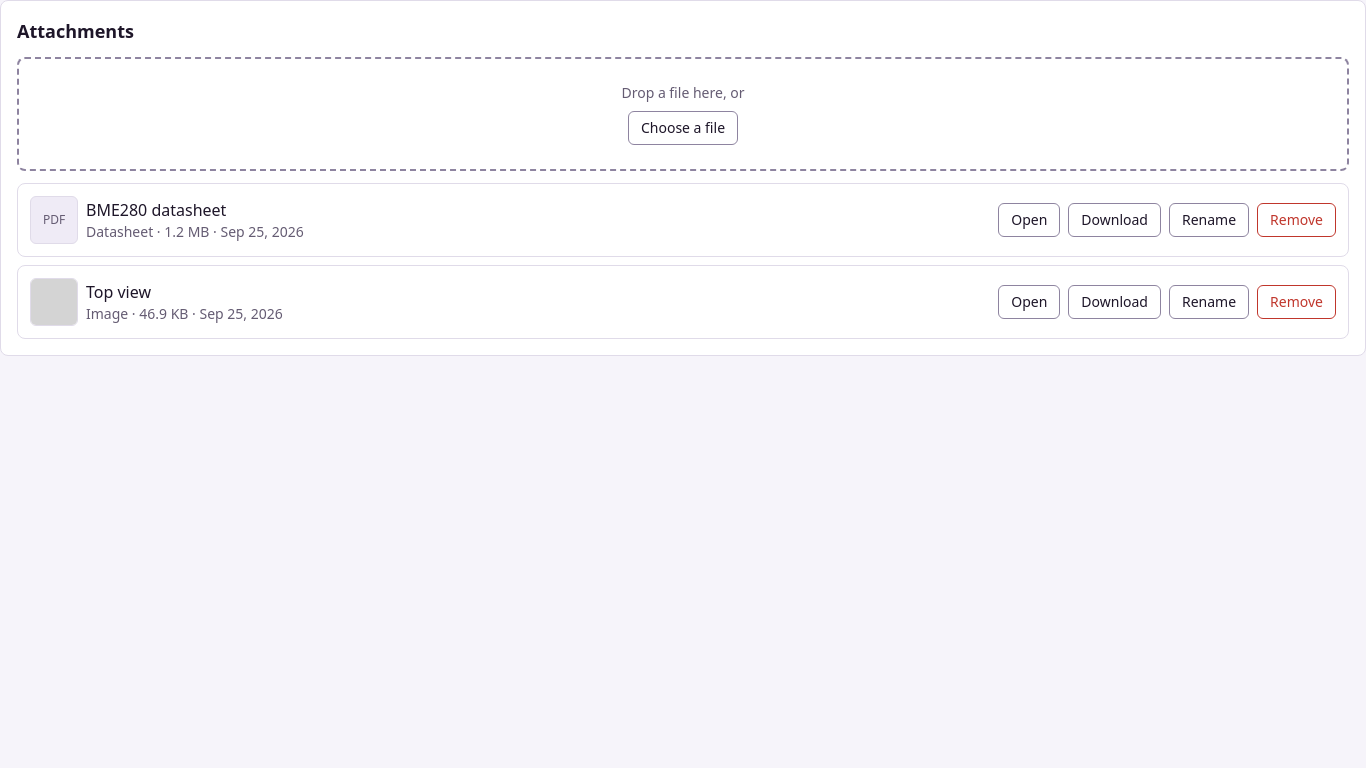
AttachmentsSection › says so when a change is refused, keeping the form open
Click the button "Rename " in the row of "Datasheet · 1.2 MB · Sep 25, 2026" at (1209, 220), box [1169,203,1249,237]
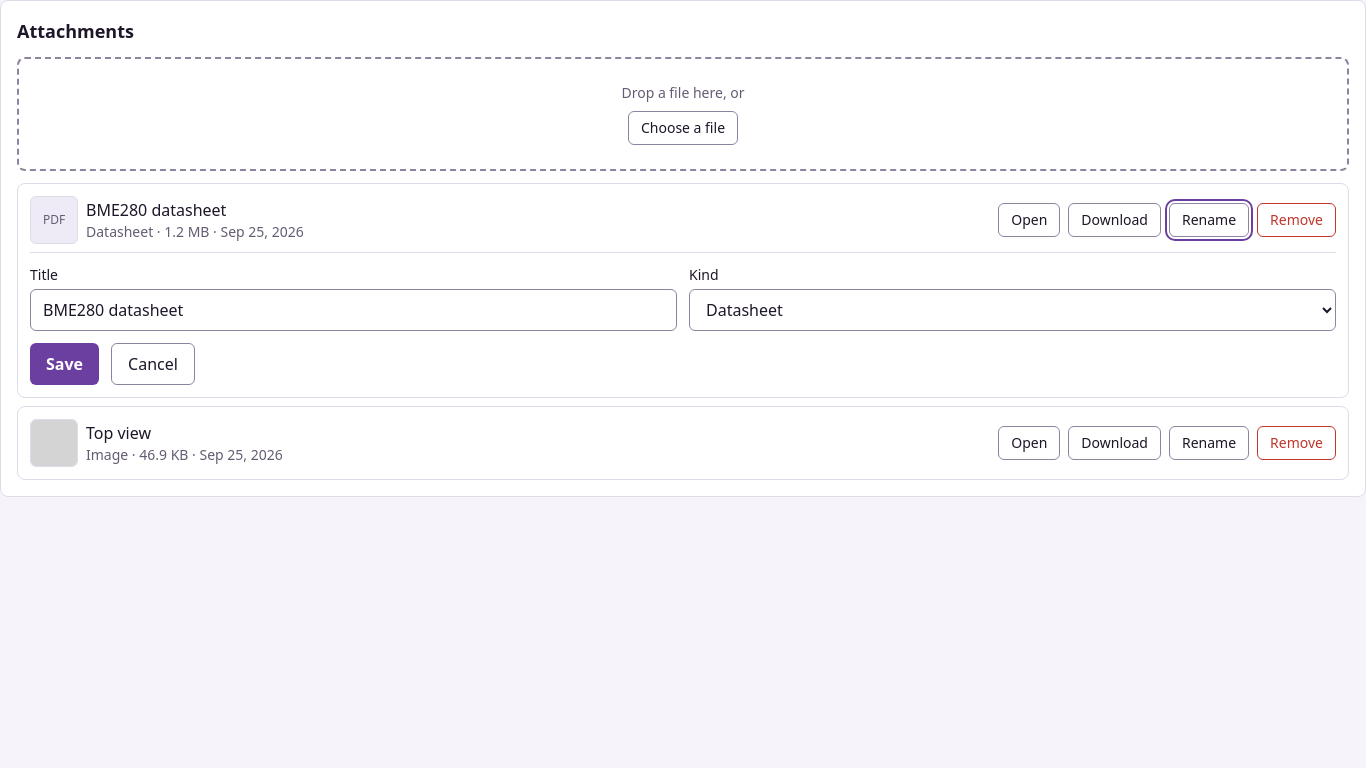
Click the button "Save" at (64, 364), box [30,343,99,385]
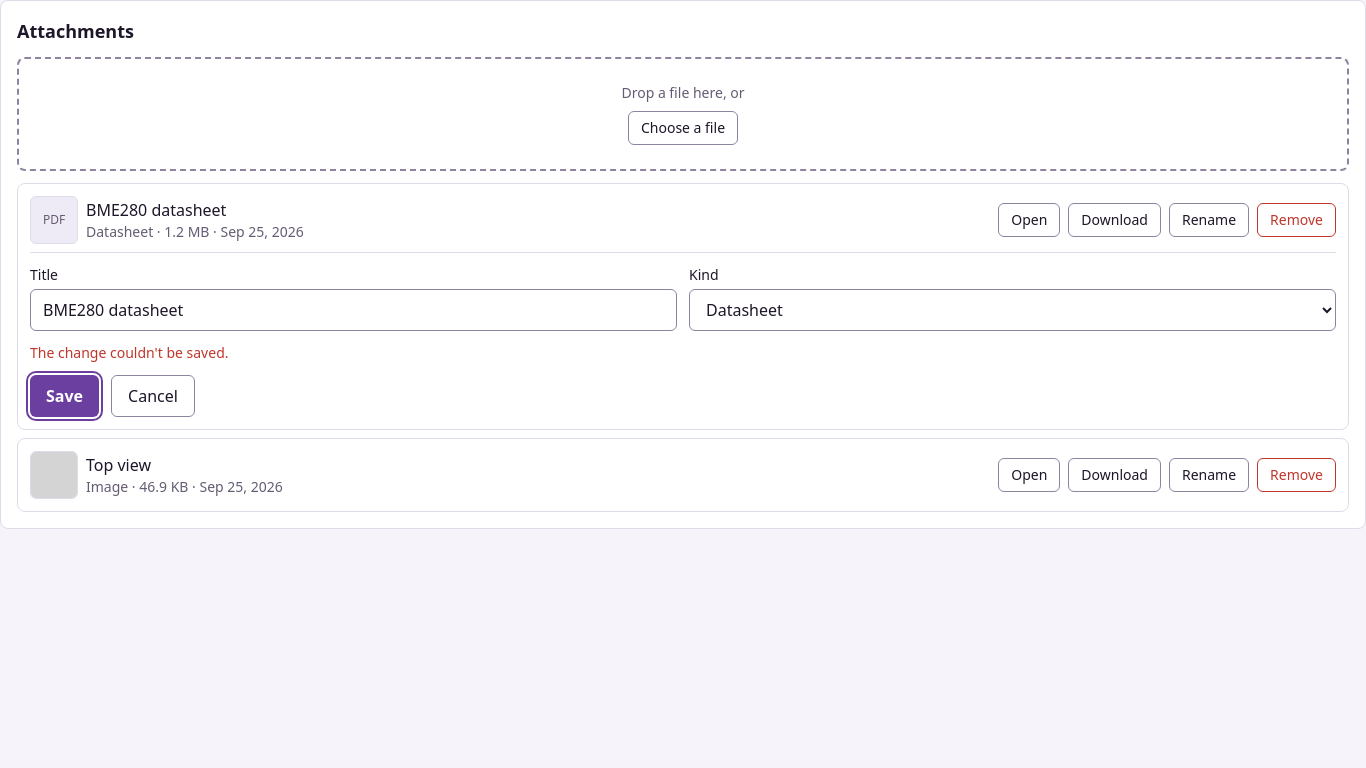
Result: the field labelled "Title" is shown at [30,289,677,331]
Result: the message shows "couldn't be saved" at [30,343,228,362]
